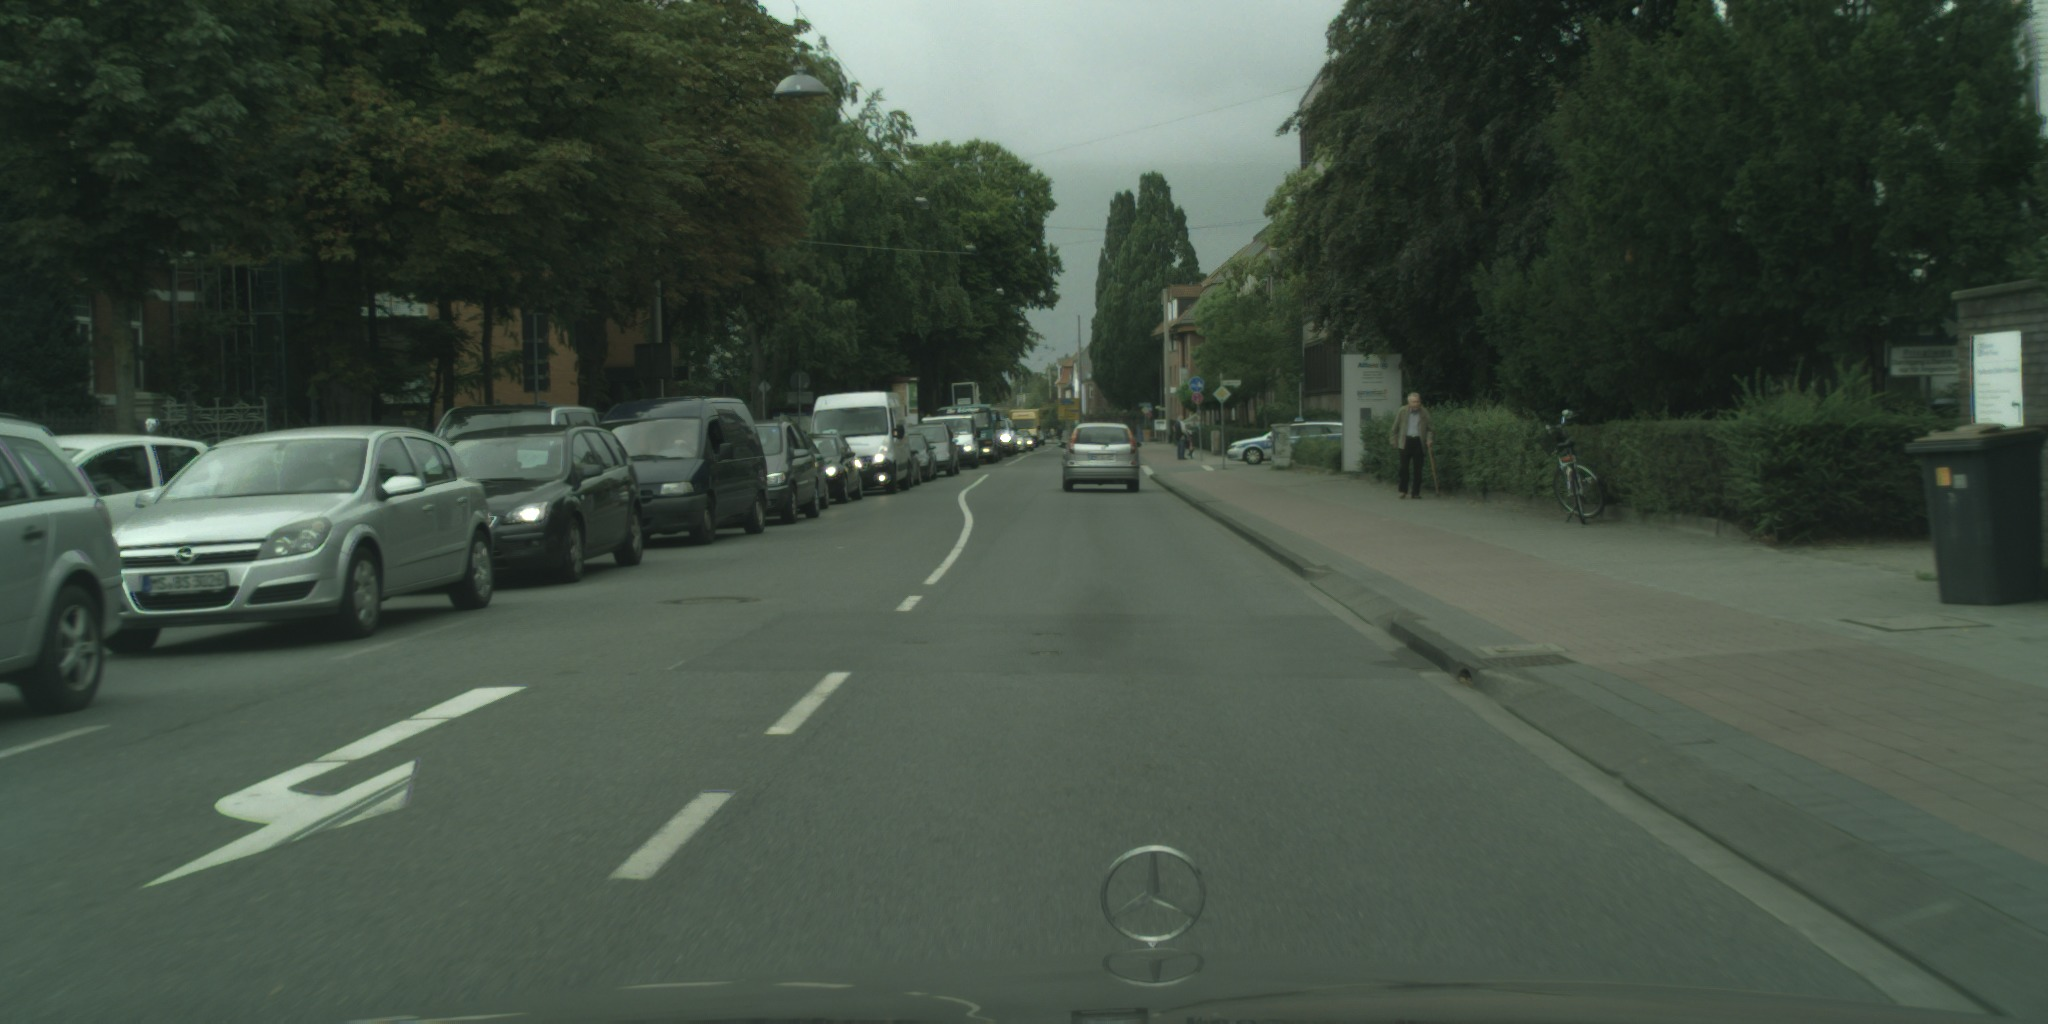bicycle: (1535, 407, 1608, 527)
car: (88, 424, 497, 654), (0, 416, 123, 714), (436, 424, 645, 585), (32, 433, 214, 596), (588, 395, 769, 547), (809, 391, 912, 494), (744, 420, 825, 525), (429, 404, 603, 450), (1056, 421, 1142, 494), (1226, 416, 1347, 464), (795, 433, 863, 511), (920, 413, 983, 470), (909, 425, 960, 477), (899, 434, 937, 490), (990, 417, 1016, 458), (1006, 431, 1024, 453), (1016, 430, 1034, 450), (1034, 426, 1045, 447)
person: (1389, 391, 1440, 501), (1173, 415, 1188, 461), (1183, 417, 1196, 461)
truck: (935, 381, 998, 464), (1009, 410, 1039, 446)
